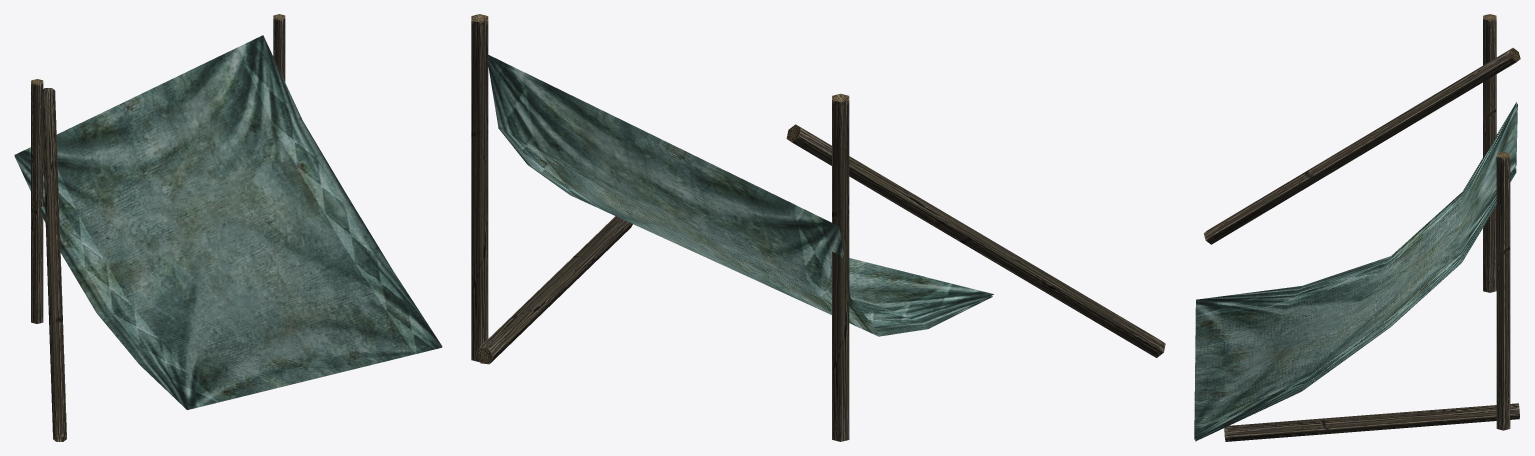
The model's file is Shed01_Build_003.FBX.
The picture shows the model from 3 angles, left to right: view 1: azimuth 30°, elevation 25°; view 2: azimuth 150°, elevation 25°; view 3: azimuth 270°, elevation 25°; orthographic projection. The views are drawn at different scales.
Visible parts, largest first — view 1: Shed01_Build_003; view 2: Shed01_Build_003; view 3: Shed01_Build_003.
Part boxes in pixels (x1,y1,x2,y2): Shed01_Build_003: [14, 14, 442, 441]; Shed01_Build_003: [471, 14, 1165, 441]; Shed01_Build_003: [1194, 14, 1520, 441].
Size of the model in its own units: 661 by 409 by 431.
1 material, 1 textured.
